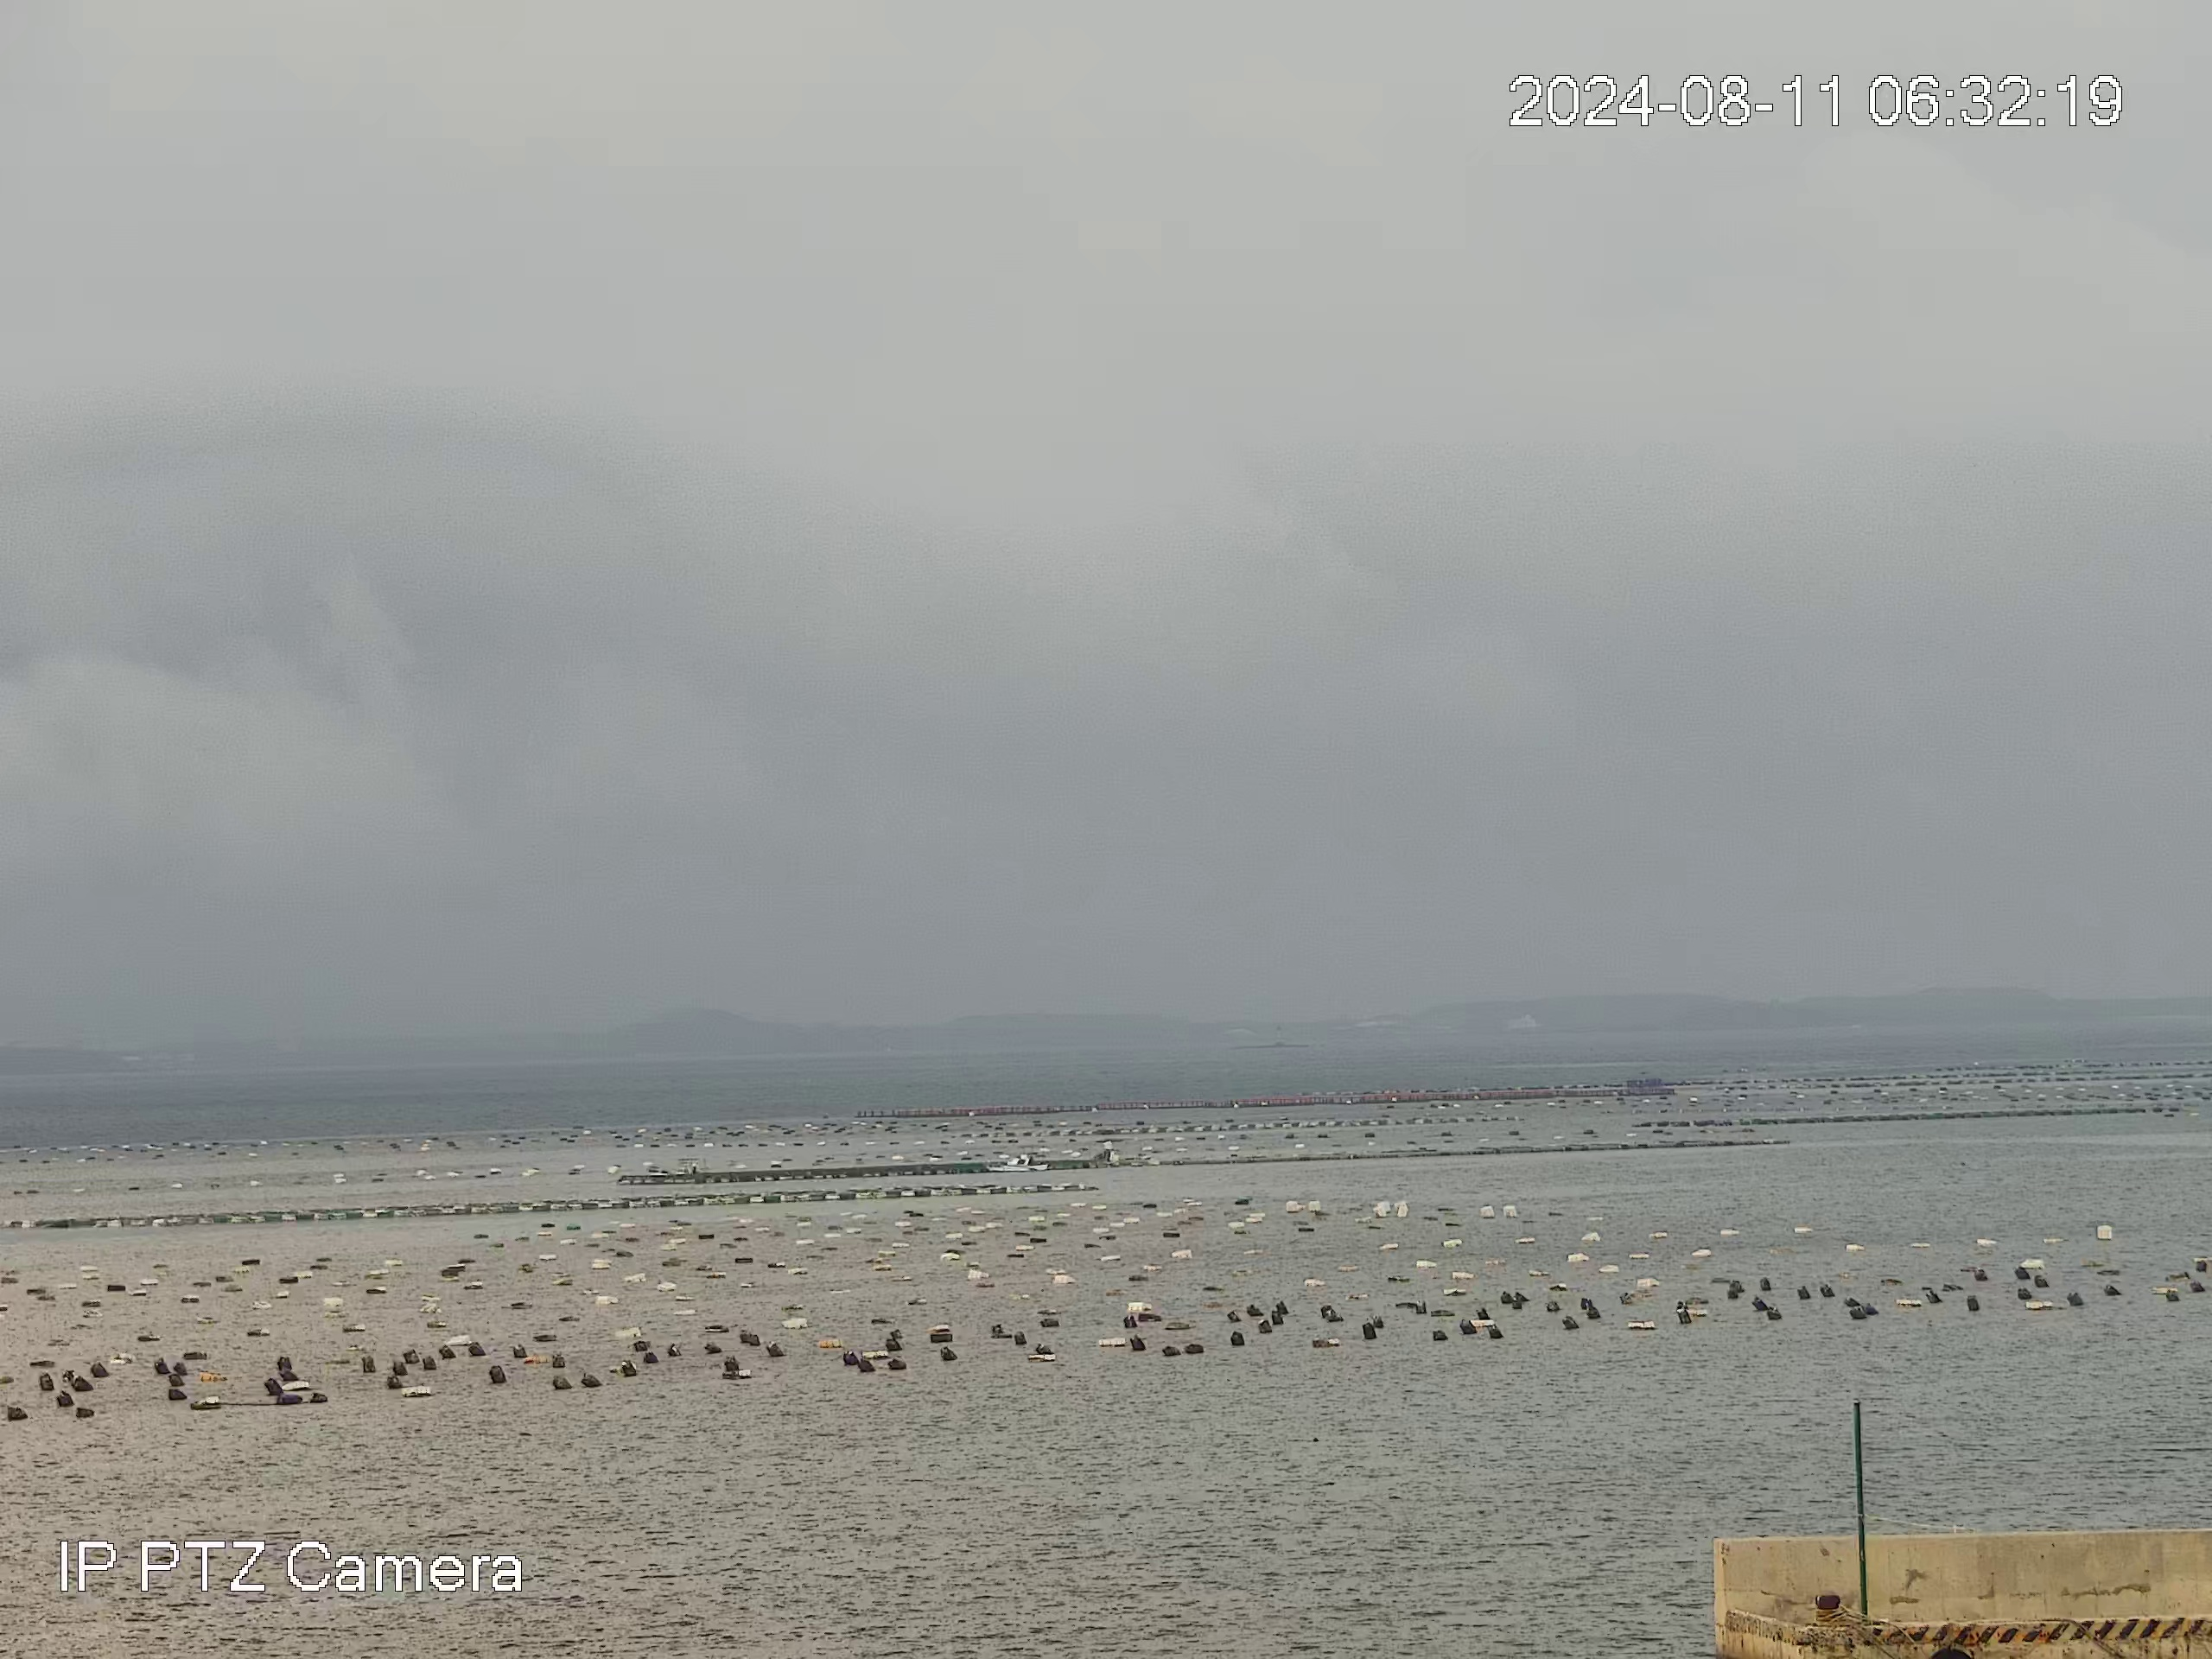boat: (984, 1152, 1050, 1173)
